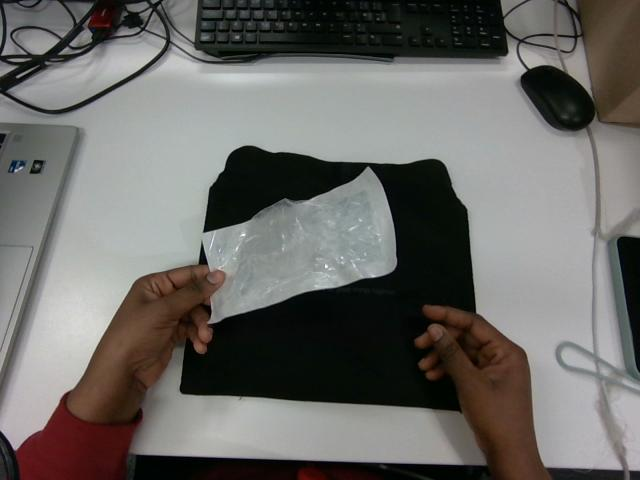gallipot: (203, 168, 396, 322)
